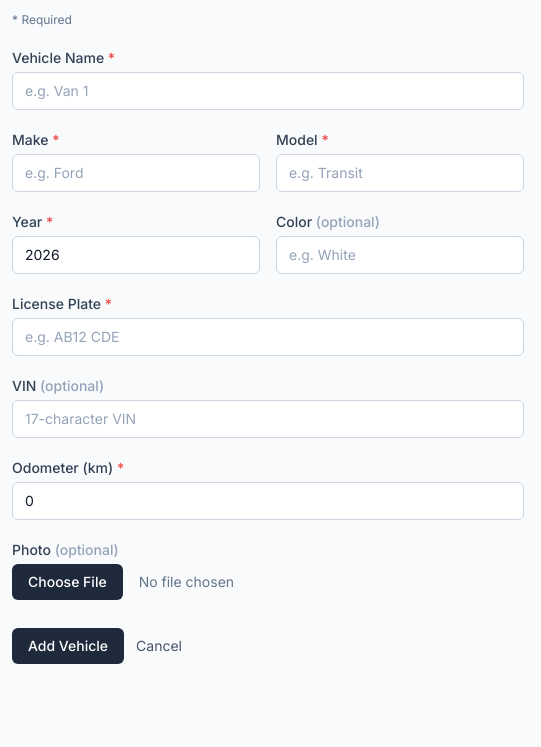
AddVehicleForm › shows server error message on failure
The width and height of the screenshot is (541, 747).
Type "Van 1" into the field labelled "Vehicle Name *".
click(268, 91); type("Van 1")  # box left=12, top=72, right=524, bottom=110
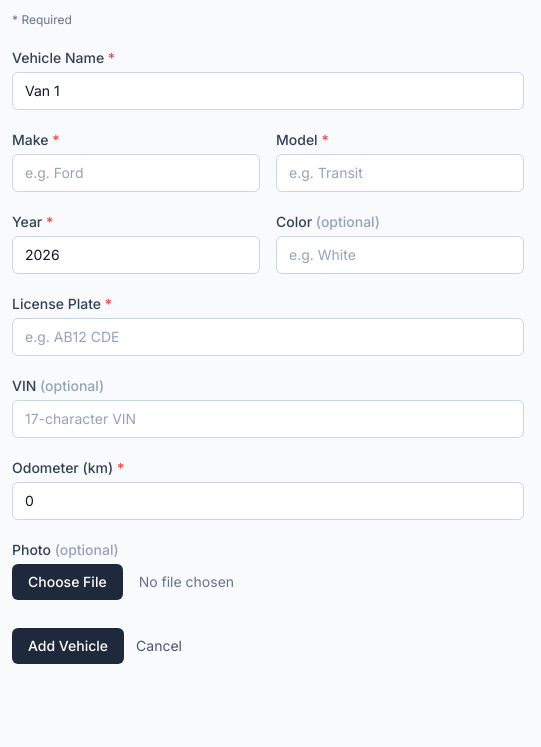
Type "Ford" into the field labelled "Make *".
click(136, 173); type("Ford")  # box left=12, top=154, right=260, bottom=192
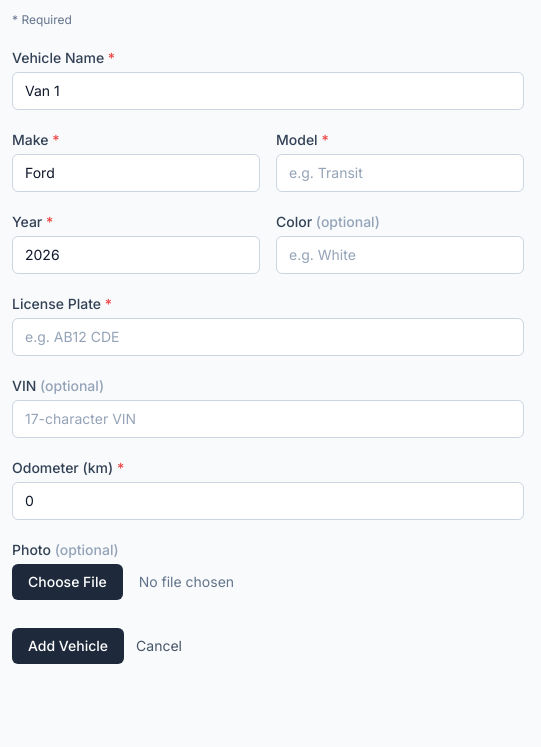
Type "Transit" into the field labelled "Model *".
click(400, 173); type("Transit")  # box left=276, top=154, right=524, bottom=192
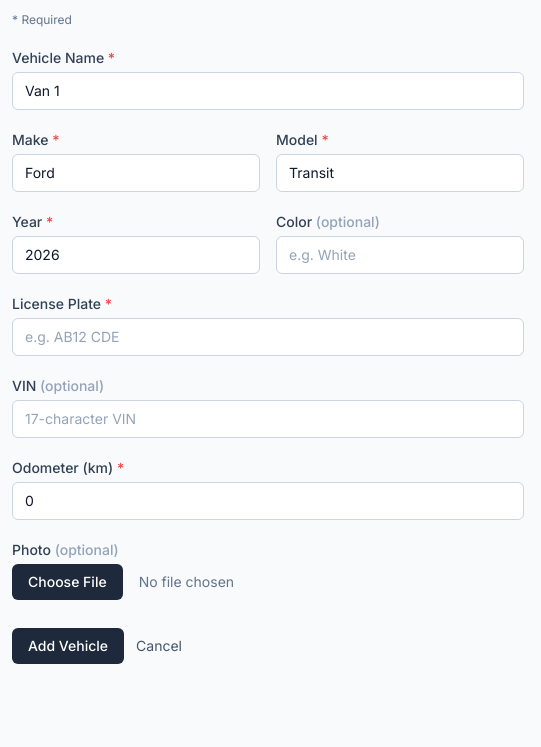
Replace the text in the number field labelled "Year *" with "2022" at (136, 255), box left=12, top=236, right=260, bottom=274
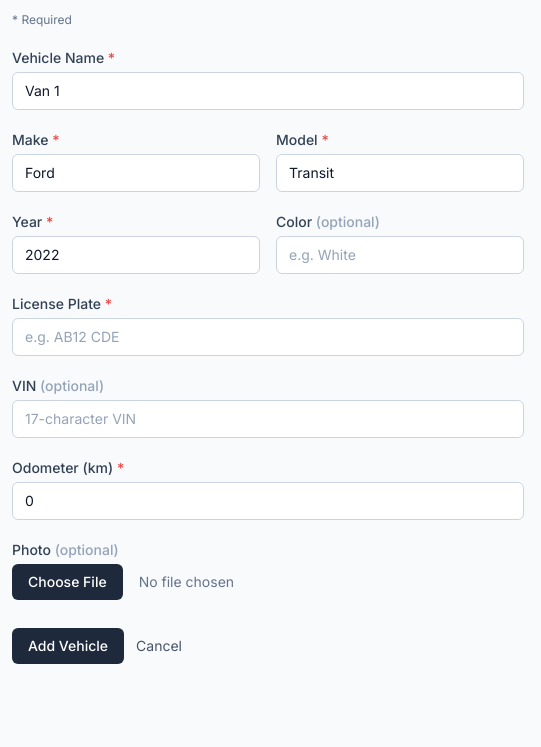
Type "AB12 CDE" into the field labelled "License Plate *".
click(268, 337); type("AB12 CDE")  # box left=12, top=318, right=524, bottom=356
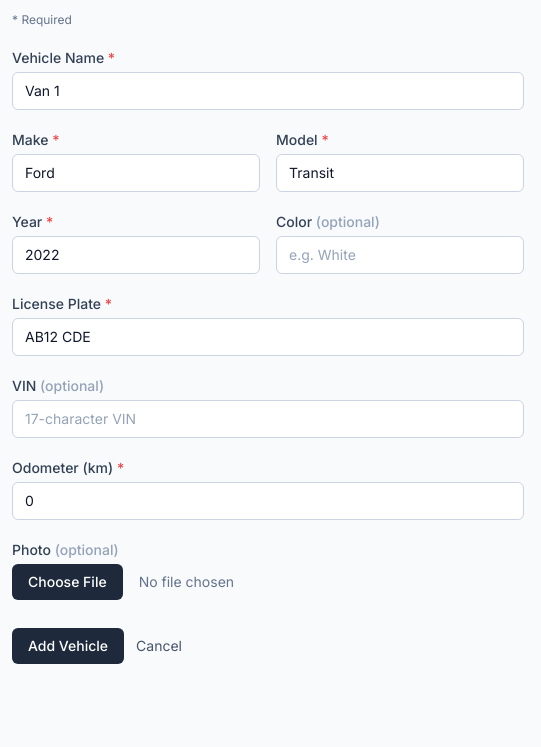
Click the button "Add Vehicle".
click(68, 646)  # box left=12, top=628, right=124, bottom=664
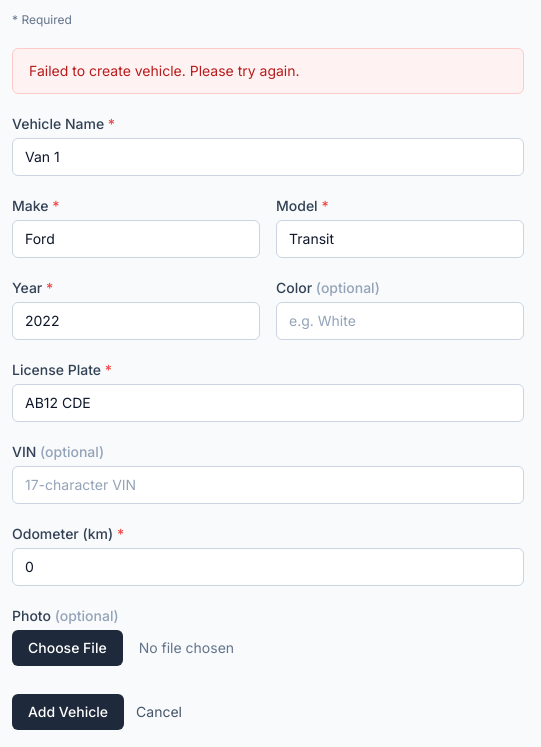
Check: the message shows "Failed", box left=29, top=62, right=300, bottom=79
